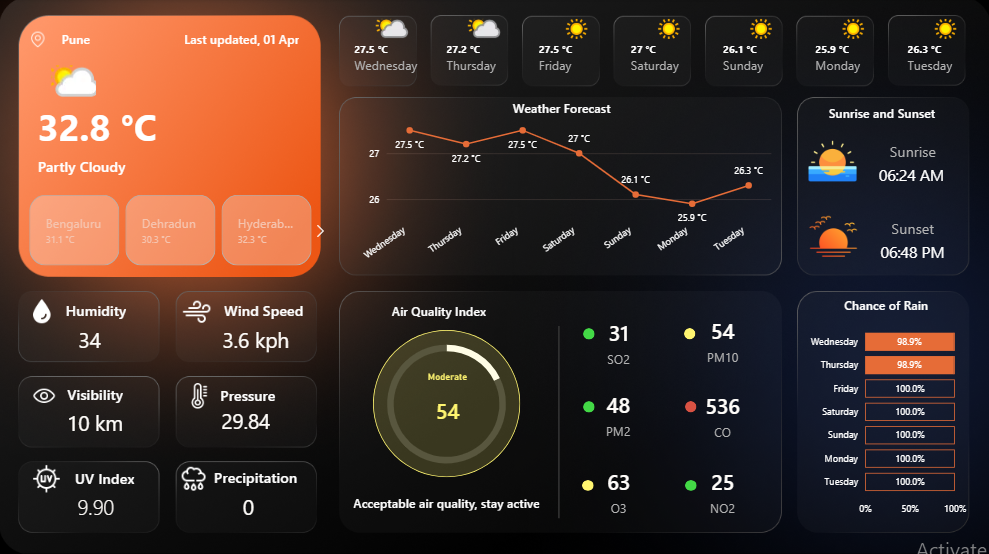

Layout of this report page (visuals, bound fields, positions):
{"tool":"powerbi","page":{"name":"Page 1","canvas":[1280,720],"ordinal":0},"visuals":[{"type":"donutChart","fields":{"Y":["Sum(Current.current.air_quality.pm10)","_Measures.left_value_PM"]},"box":[450,422.9,254.3,201.4],"z":0},{"type":"shape","box":[482.9,428.6,190,190],"z":1000},{"type":"advancedSlicerVisual","fields":{"Values":["Location.location.name"]},"box":[14.5,248.7,416.4,101.2],"z":2000},{"type":"shape","box":[49.7,114,255.7,103.7],"z":3000},{"type":"shape","box":[49.7,190,336.1,55.5],"z":4000},{"type":"shape","box":[57,26.3,84.7,55.5],"z":5000},{"type":"shape","box":[222.1,26.3,182.6,55.5],"z":6000},{"type":"image","box":[39.5,38,20.5,32.1],"z":7000},{"type":"cardVisual","fields":{"Data":["Min(Current.current.condition.icon)"]},"box":[49.7,70.1,92.1,78.9],"z":8000},{"type":"image","box":[39,497.3,39,33.3],"z":9000},{"type":"shape","box":[62.2,494.5,124.3,33.3],"z":10000},{"type":"image","box":[39,386,33.3,37.6],"z":11000},{"type":"image","box":[231.3,386,47.7,37.6],"z":12000},{"type":"image","box":[39,601.4,44.8,37.6],"z":13000},{"type":"image","box":[227,601.4,47.7,37.6],"z":14000},{"type":"image","box":[237.1,497.3,41.9,33.3],"z":15000},{"type":"shape","box":[78.1,601.4,115.7,37.6],"z":16000},{"type":"shape","box":[53.5,386,144.6,33.3],"z":17000},{"type":"shape","box":[279,386,125.8,33.3],"z":18000},{"type":"shape","box":[268.9,494.5,105.5,36.1],"z":19000},{"type":"shape","box":[268.9,601.4,125.8,34.7],"z":20000},{"type":"card","fields":{"Values":["Sum(Current.current.humidity)"]},"box":[49.2,423.6,135.9,39],"z":21000},{"type":"card","fields":{"Values":["_Measures.Wind_Speed"]},"box":[268.9,423.6,125.8,39],"z":22000},{"type":"card","fields":{"Values":["_Measures.Visibility"]},"box":[69.4,530.6,108.4,39],"z":23000},{"type":"card","fields":{"Values":["Sum(Current.current.pressure_in)"]},"box":[255.9,527.7,125.8,39],"z":24000},{"type":"card","fields":{"Values":["Sum(Current.current.uv)"]},"box":[62.2,639,125.8,39],"z":25000},{"type":"card","fields":{"Values":["Sum(Current.current.precip_in)"]},"box":[274.7,639,94,39],"z":26000},{"type":"advancedSlicerVisual","fields":{"Values":["Forcast_Day.Day_Name"]},"box":[441,26,838.6,88.2],"z":27000},{"type":"lineChart","title":"Weather Forecast ","fields":{"Y":["Sum(Forcast_Day.forecast.forecastday.day.avgtemp_c)"],"Category":["Forcast_Day.Day_Name"]},"box":[448.2,131.6,553.7,225.5],"z":28000},{"type":"shape","box":[1067,131.6,144.6,33.3],"z":29000},{"type":"shape","box":[1120.5,205.3,114.2,44.8],"z":30000},{"type":"shape","box":[1120.5,305.1,117.1,44.8],"z":31000},{"type":"shape","box":[1137.8,174.9,82.4,44.8],"z":32000},{"type":"shape","box":[1137.8,274.7,82.4,44.8],"z":33000},{"type":"image","box":[1033.7,273.3,86.7,68],"z":34000},{"type":"image","box":[1033.7,179.3,83.9,62.2],"z":35000},{"type":"hundredPercentStackedBarChart","title":"Chance of Rain","fields":{"Category":["Forcast_Day.Day_Name"],"Y":["Sum(Forcast_Day.forecast.forecastday.day.daily_chance_of_rain)","Current.Left_value_Rain"]},"box":[1033.7,386,219.8,292],"z":36000},{"type":"shape","box":[495.9,387.5,144.6,33.3],"z":37000},{"type":"card","fields":{"Values":["Sum(Current.current.air_quality.pm10)"]},"box":[883.7,403.5,99.8,75.2],"z":38000},{"type":"card","fields":{"Values":["Sum(Current.current.air_quality.co)"]},"box":[883.7,500.4,99.8,75.2],"z":39000},{"type":"card","fields":{"Values":["Sum(Current.current.air_quality.no2)"]},"box":[883.7,598.7,99.8,75.2],"z":40000},{"type":"card","fields":{"Values":["Sum(Current.current.air_quality.so2)"]},"box":[749.2,406.4,99.8,75.2],"z":41000},{"type":"card","fields":{"Values":["Sum(Current.current.air_quality.pm2_5)"]},"box":[753.6,497.5,91.1,78.1],"z":42000},{"type":"card","fields":{"Values":["Sum(Current.current.air_quality.o3)"]},"box":[749.2,598.7,99.8,75.2],"z":43000},{"type":"shape","box":[884.1,426.4,14.8,14.8],"z":44000},{"type":"shape","box":[884.6,520.5,14.8,14.8],"z":45000},{"type":"shape","box":[884.6,621.3,15.3,14.1],"z":46000},{"type":"shape","box":[754.1,520.2,15.3,15.3],"z":47000},{"type":"shape","box":[754.1,425.9,15.3,15.3],"z":48000},{"type":"shape","box":[752.9,621.3,15.3,14.1],"z":49000},{"type":"shape","box":[648.2,423.5,149.4,248.2],"z":50000},{"type":"card","fields":{"Values":["Sum(Current.current.air_quality.pm10)"]},"box":[517.1,481.4,122.9,91.4],"z":51000},{"type":"shape","box":[450,624.3,254.3,52.9],"z":51001}]}

Visuals, with their boxes in screenshot pixels (x1, y1, x2, y2), scaled from the page's 1280x720 canvas onto the 989x554 screenshot:
donutChart - Sum(Current.current.air_quality.pm10) x _Measures.left_value_PM: 348/325/544/480
shape: 373/330/520/476
advancedSlicerVisual - Location.location.name: 11/191/333/269
shape: 38/88/236/168
shape: 38/146/298/189
shape: 44/20/109/63
shape: 172/20/313/63
image: 31/29/46/54
cardVisual - Min(Current.current.condition.icon): 38/54/110/115
image: 30/383/60/408
shape: 48/380/144/406
image: 30/297/56/326
image: 179/297/216/326
image: 30/463/65/492
image: 175/463/212/492
image: 183/383/216/408
shape: 60/463/150/492
shape: 41/297/153/323
shape: 216/297/313/323
shape: 208/380/289/408
shape: 208/463/305/489
card - Sum(Current.current.humidity): 38/326/143/356
card - _Measures.Wind_Speed: 208/326/305/356
card - _Measures.Visibility: 54/408/137/438
card - Sum(Current.current.pressure_in): 198/406/295/436
card - Sum(Current.current.uv): 48/492/145/522
card - Sum(Current.current.precip_in): 212/492/285/522
advancedSlicerVisual - Forcast_Day.Day_Name: 341/20/988/88
"Weather Forecast " lineChart: 346/101/774/275
shape: 824/101/936/127
shape: 866/158/954/192
shape: 866/235/956/269
shape: 879/135/943/169
shape: 879/211/943/246
image: 799/210/866/263
image: 799/138/864/186
"Chance of Rain" hundredPercentStackedBarChart: 799/297/969/522
shape: 383/298/495/324
card - Sum(Current.current.air_quality.pm10): 683/310/760/368
card - Sum(Current.current.air_quality.co): 683/385/760/443
card - Sum(Current.current.air_quality.no2): 683/461/760/519
card - Sum(Current.current.air_quality.so2): 579/313/656/371
card - Sum(Current.current.air_quality.pm2_5): 582/383/653/443
card - Sum(Current.current.air_quality.o3): 579/461/656/519
shape: 683/328/695/339
shape: 683/400/695/412
shape: 683/478/695/489
shape: 583/400/594/412
shape: 583/328/594/339
shape: 582/478/594/489
shape: 501/326/616/517
card - Sum(Current.current.air_quality.pm10): 400/370/494/441
shape: 348/480/544/521
